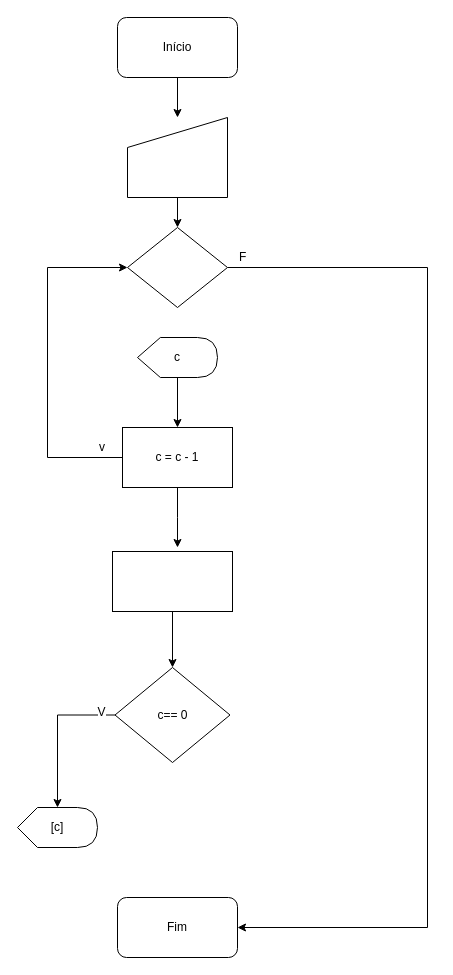
Some shapes in this 453 by 975 pixel diagram are drawn without their labels. The centre of each missing label's shape, as x and y in pixels:
"c >= 0" belongs at point 177,267.
"c, m, resto" belongs at point 177,157.
"resto = c % m" belongs at point 172,581.
